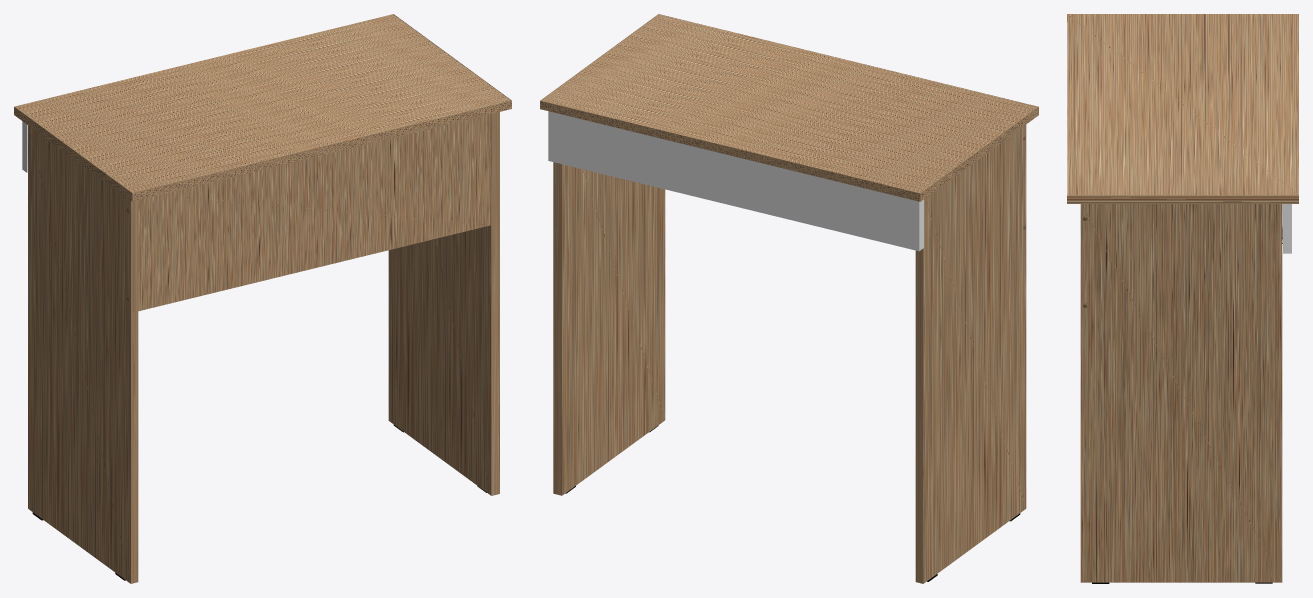
Rendered from loft-minni-oak.glb.
3 views of the same model, side by side, from view 1: azimuth 30°, elevation 25°; view 2: azimuth 150°, elevation 25°; view 3: azimuth 270°, elevation 25° (orthographic). The views are drawn at different scales.
Visible parts, largest first — view 1: Cube; view 2: Cube, Cube.001; view 3: Cube, Cube.001.
Boxes of the visible parts, <box> form: Cube: <box>14,14,511,583</box>; Cube: <box>540,14,1038,583</box>; Cube.001: <box>548,111,1025,581</box>; Cube: <box>1067,14,1298,582</box>; Cube.001: <box>1083,204,1291,583</box>.
Size of the model in its own units: 15 by 15.07 by 8.09.
Materials: 5 (5 with a texture image).
